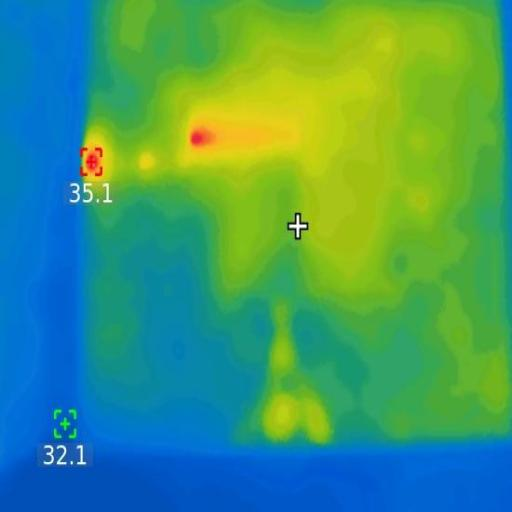hotspot: (78, 145, 105, 179), (190, 125, 215, 151)
